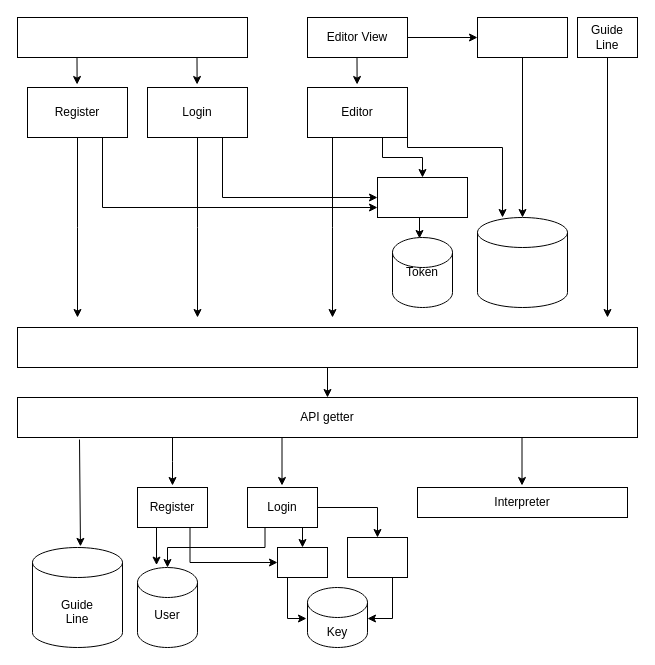
Image size: 655x665. Some labels were removed from this diagram. The centre of each missing label's shape, as x and y in pixels:
"API caller" goes at (327,347).
"Gen Token" goes at (302,562).
"Regen Token" goes at (377,557).
"Render Object" goes at (522,262).
"Render View" goes at (522,37).
"Token Manager" goes at (422,197).
"User View" goes at (132,37).
